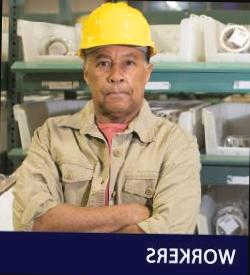helmet: (69, 1, 166, 58)
no_vest: (14, 105, 204, 231)
person: (9, 1, 209, 232)
